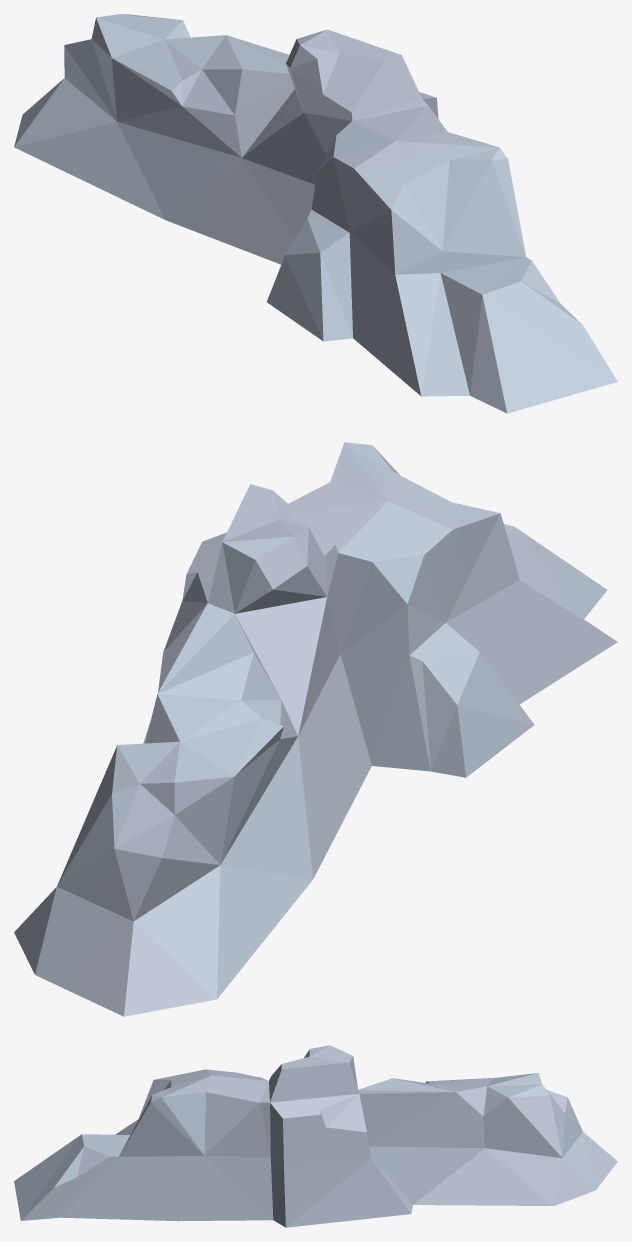
Rendered from TreePackage.fbx_RockCluster.fbx.
The picture shows the model from 3 angles, top to bottom: view 1: azimuth 30°, elevation 25°; view 2: azimuth 150°, elevation 25°; view 3: azimuth 270°, elevation 25°; orthographic projection. The views are drawn at different scales.
Parts seen in each view (by area): view 1: RockCluster; view 2: RockCluster; view 3: RockCluster.
Part boxes in pixels (bbox=[...]): RockCluster: bbox=[14, 14, 617, 413]; RockCluster: bbox=[14, 442, 617, 1016]; RockCluster: bbox=[14, 1045, 617, 1227].
Bounding box in the file's own units: 164 × 135 × 522.
